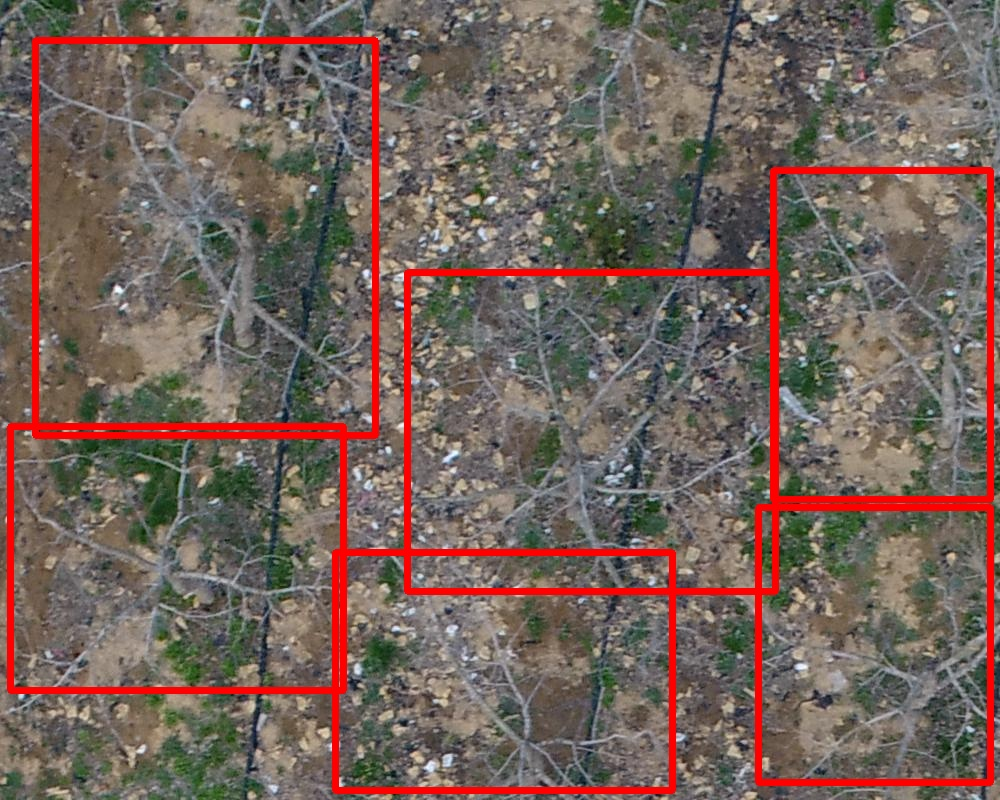apple: (35, 40, 375, 435), (407, 272, 775, 591), (10, 426, 343, 690), (335, 552, 672, 790), (773, 170, 990, 499), (758, 507, 990, 782)
